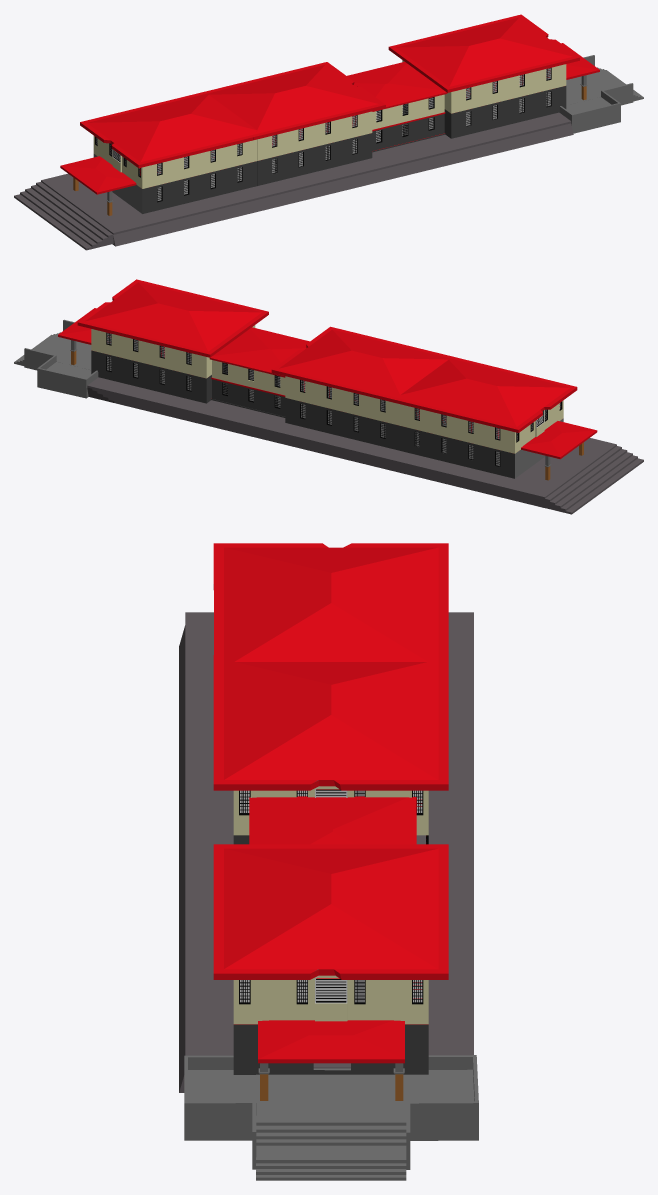
The model's file is residencia.fbx.
The picture shows the model from 3 angles, top to bottom: view 1: azimuth 30°, elevation 25°; view 2: azimuth 150°, elevation 25°; view 3: azimuth 270°, elevation 25°; orthographic projection. The views are drawn at different scales.
Visible parts, largest first — view 1: Cube.006, building_002.001, building_002.009, building_002.002, building_005, Cube.009; view 2: building_002.001, Cube.006, building_002.009, building_002.002, building_005, Cube.009; view 3: building_002.009, building_002.002, Cube.006, building_002.001, Cube.009, building_005, building_002.014.
Part boxes in pixels (x1,y1,x2,y2): Cube.006: (14, 112, 573, 250); building_002.001: (60, 90, 270, 215); building_002.009: (388, 14, 599, 138); building_002.002: (196, 62, 385, 185); building_005: (347, 61, 447, 152); Cube.009: (559, 55, 643, 133); building_002.001: (386, 354, 597, 480); Cube.006: (87, 377, 643, 514); building_002.009: (58, 279, 268, 403); building_002.002: (271, 326, 457, 450); building_005: (209, 327, 309, 417); Cube.009: (14, 319, 98, 398); building_002.009: (213, 844, 448, 1100); building_002.002: (213, 655, 448, 844); Cube.006: (179, 612, 473, 1092); building_002.001: (213, 543, 448, 672); Cube.009: (184, 1055, 478, 1180); building_005: (249, 796, 416, 844); building_002.014: (234, 1024, 428, 1074).
Bounding box in the file's own units: 13492 × 1738 × 3049.
